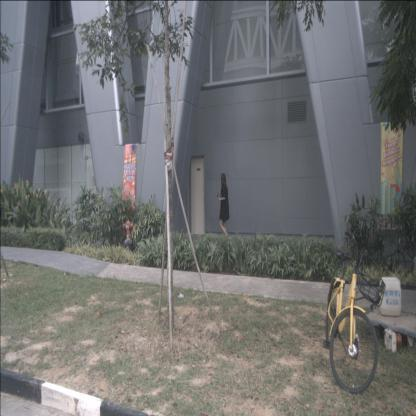human-pedestrian-adult: (217, 174, 230, 242)
vehicle-bicycle: (323, 230, 386, 394)
